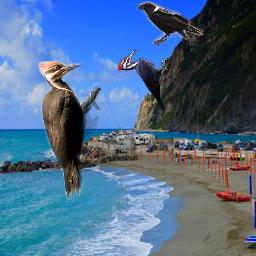Crow: (137, 1, 203, 47)
Woodpecker: (38, 61, 101, 202), (118, 49, 170, 122)
